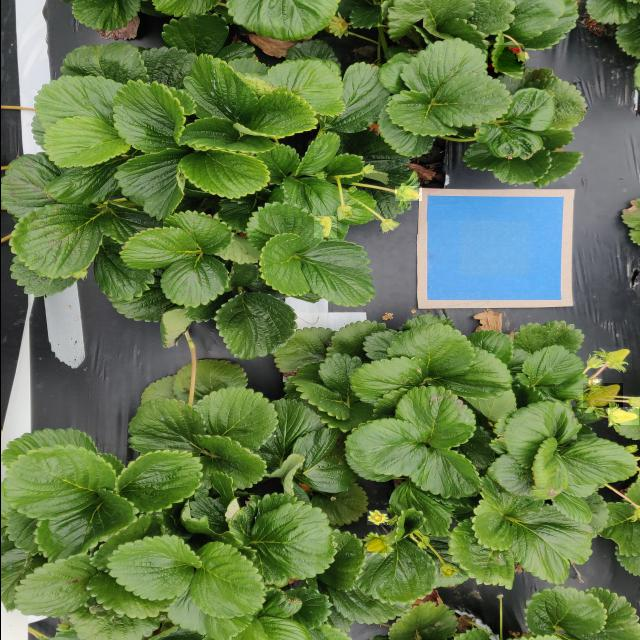Green Strawberry: (581, 383, 622, 408), (598, 347, 631, 371), (606, 407, 638, 426), (320, 18, 348, 38), (312, 216, 336, 239), (393, 186, 421, 202), (360, 537, 386, 554), (436, 564, 458, 580), (365, 510, 387, 526)
Red Strawberry: (486, 45, 524, 73)
